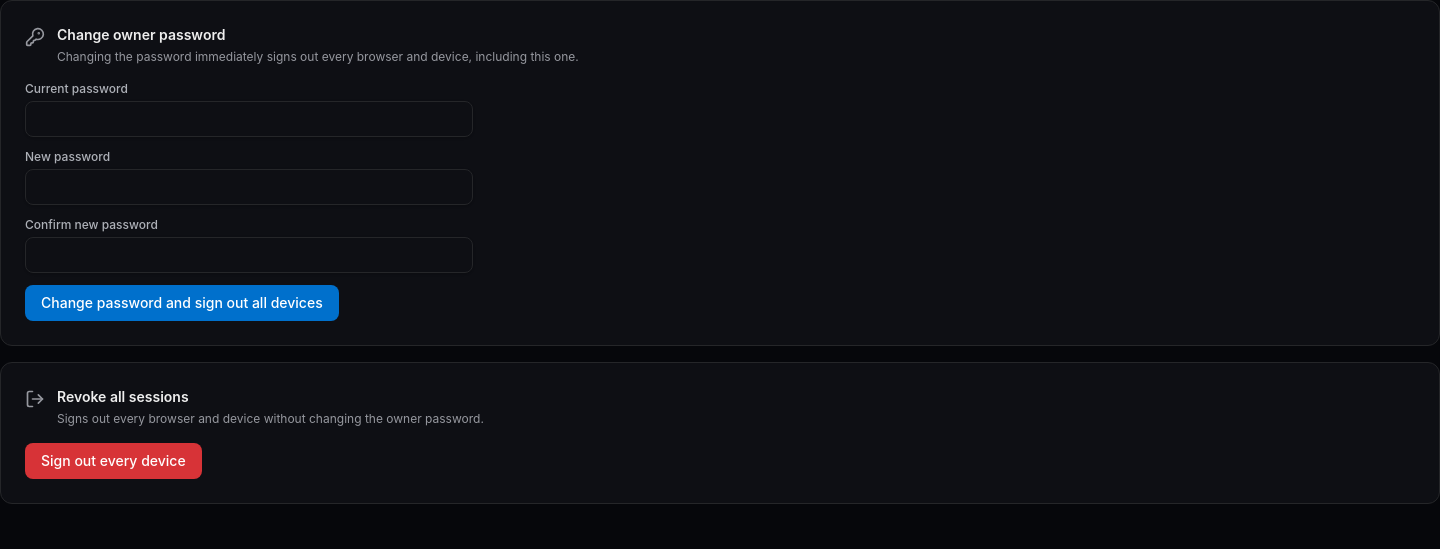
Test: SecuritySettings › shows a password-change failure without clearing state or navigating
In the password field labelled "Current password": x=249, y=119 [25,101,473,137], type "current-owner-password"
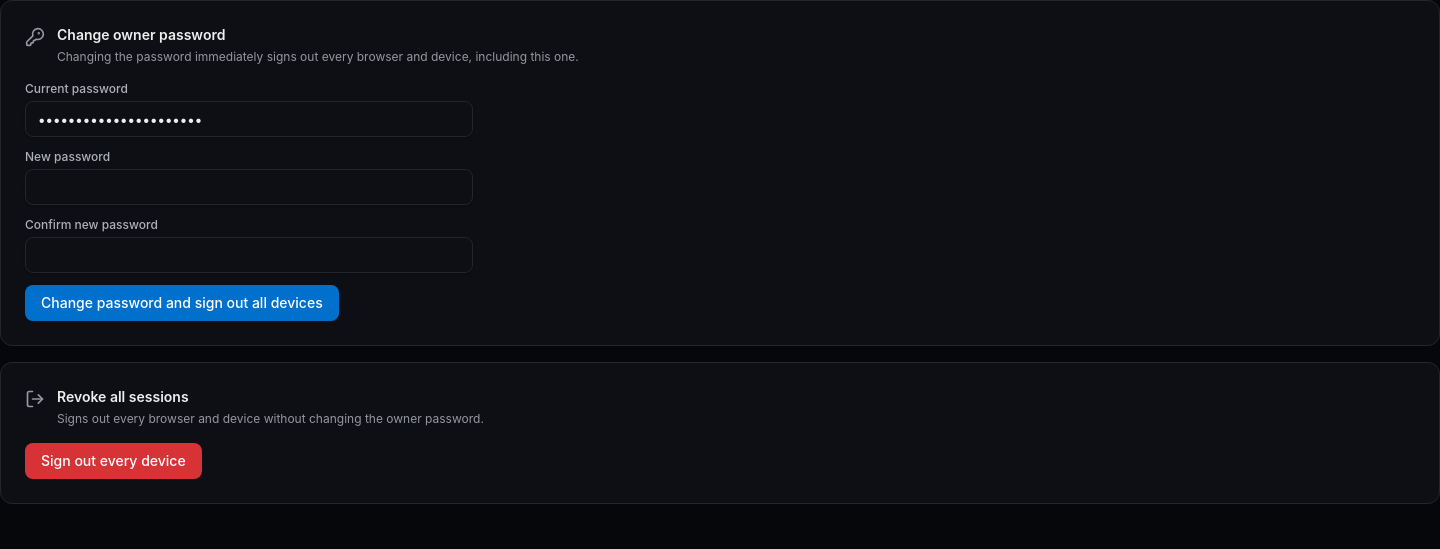
In the password field labelled "New password": x=249, y=187 [25,169,473,205], type "a-new-owner-password"
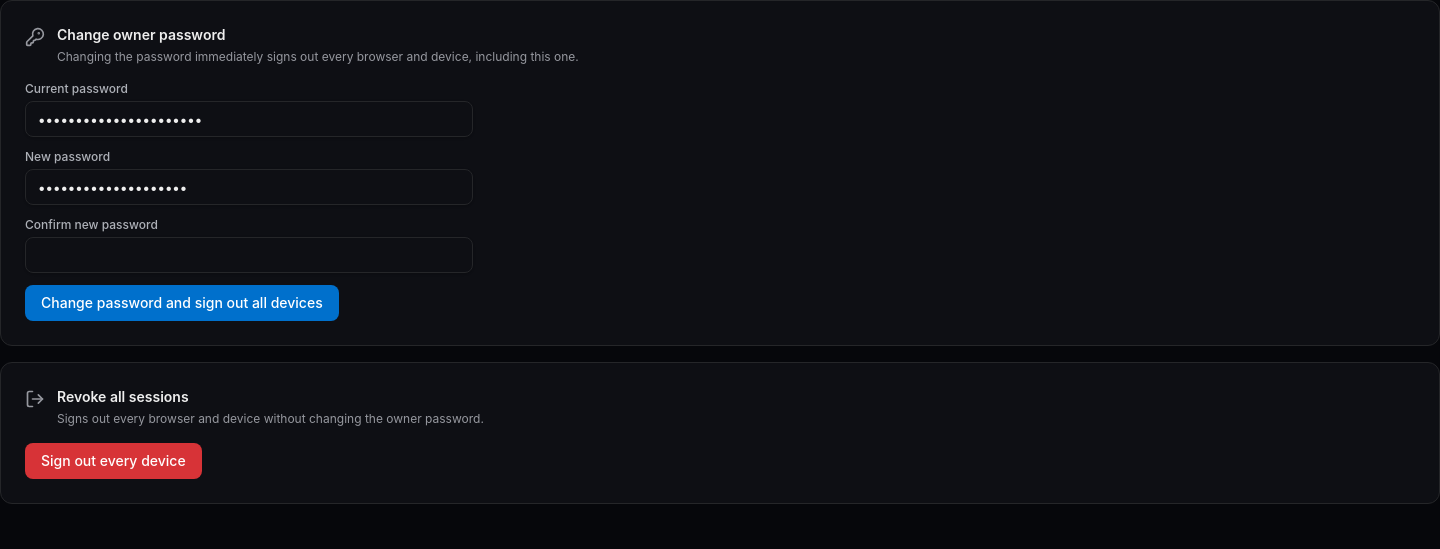
In the password field labelled "Confirm new password": x=249, y=255 [25,237,473,273], type "a-new-owner-password"
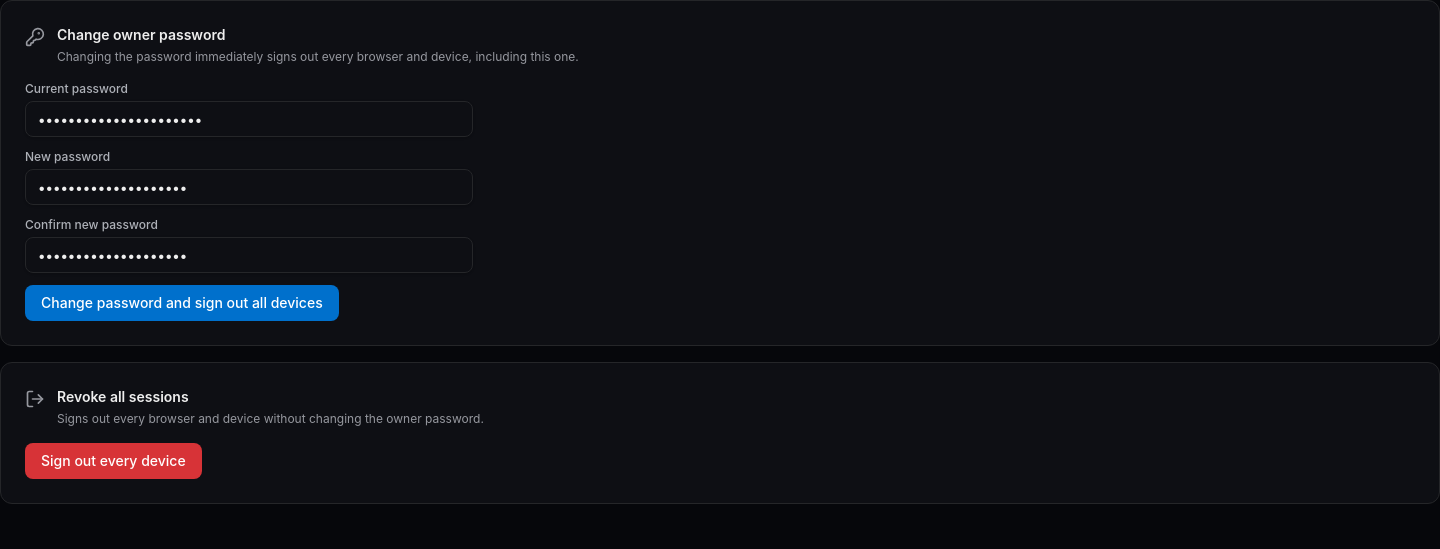
Click the button "Change password and sign out all devices": x=182, y=303 [25,285,339,321]
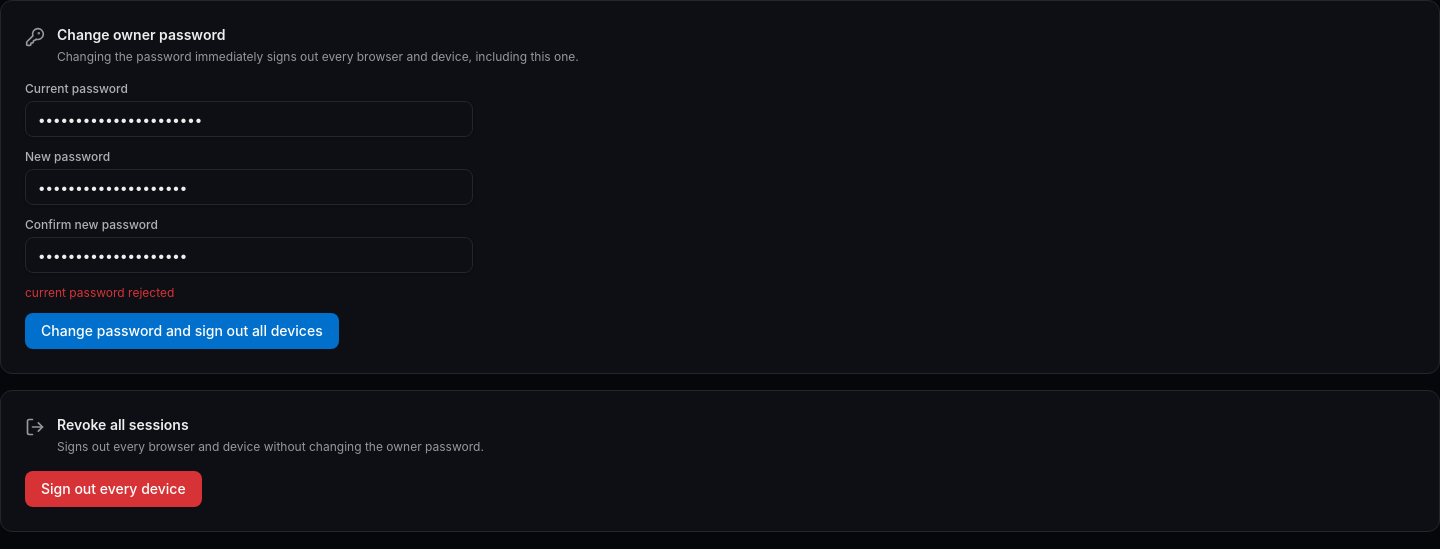
Expected: the message reads "current password rejected", [25,285,174,300]
